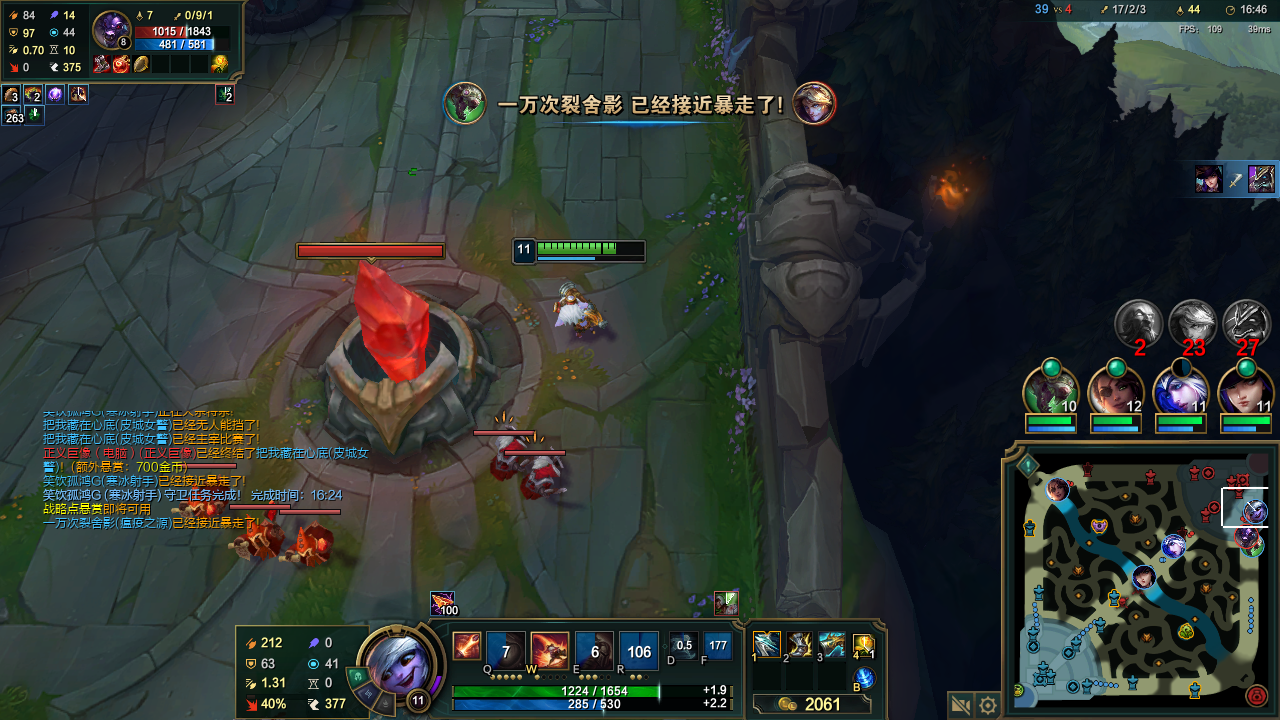DFSJ: (306, 256, 497, 449)
DFXB: (518, 456, 578, 508), (284, 528, 339, 576), (236, 514, 287, 562), (488, 431, 533, 477), (182, 479, 227, 519)
